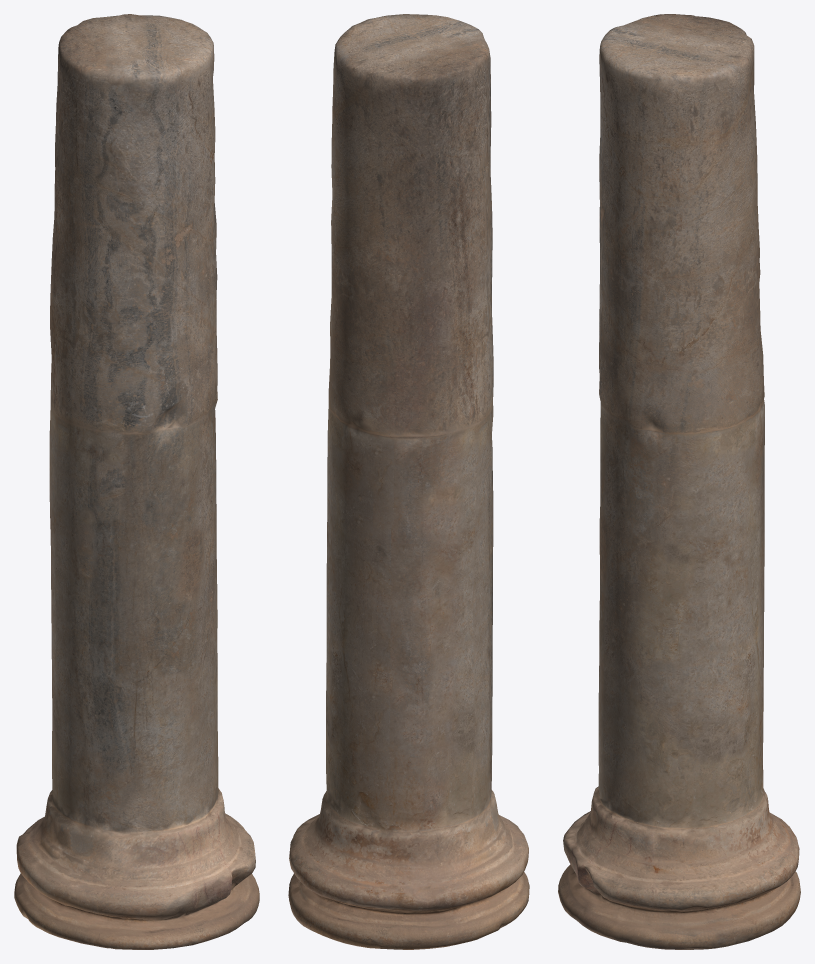
Rendered from post.obj.
3 renders of one model, left to right at view 1: azimuth 30°, elevation 25°; view 2: azimuth 150°, elevation 25°; view 3: azimuth 270°, elevation 25°, orthographic.
Visible parts, largest first — view 1: post; view 2: post; view 3: post.
Part boxes in pixels (x1,y1,x2,y2): post: (14, 14, 259, 949); post: (288, 14, 529, 949); post: (558, 14, 800, 949).
Size of the model in its own units: 54.39 by 213 by 54.66.
